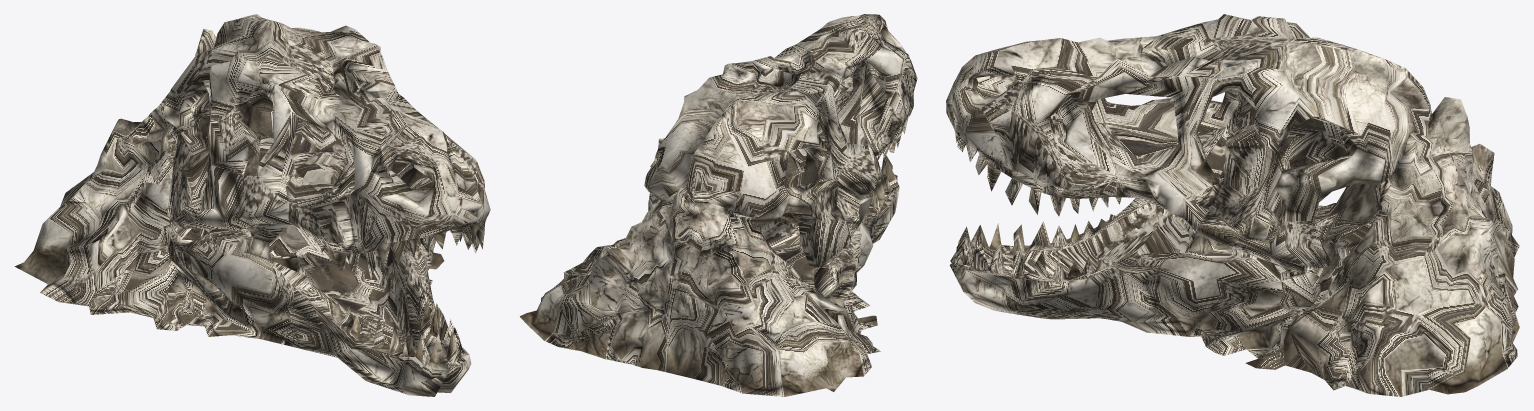
Rendered from sv_skull_lo.glb.
3 views of the same model, side by side, from view 1: azimuth 30°, elevation 25°; view 2: azimuth 150°, elevation 25°; view 3: azimuth 270°, elevation 25° (orthographic). The views are drawn at different scales.
Size of the model in its own units: 1.51 by 0.9589 by 1.9.
Materials: 1 (1 with a texture image).
